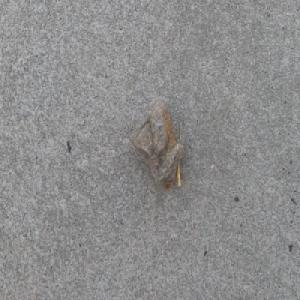Rock: (128, 98, 183, 191)
